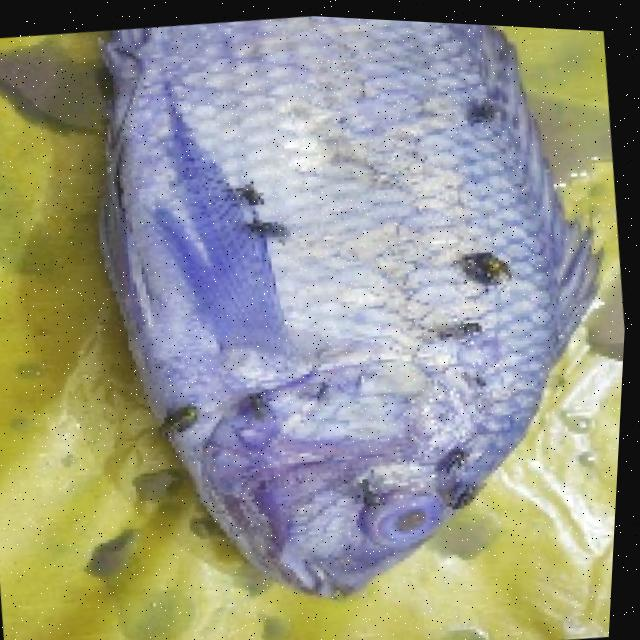Non-Fresh: (66, 4, 597, 524), (340, 449, 474, 558)
